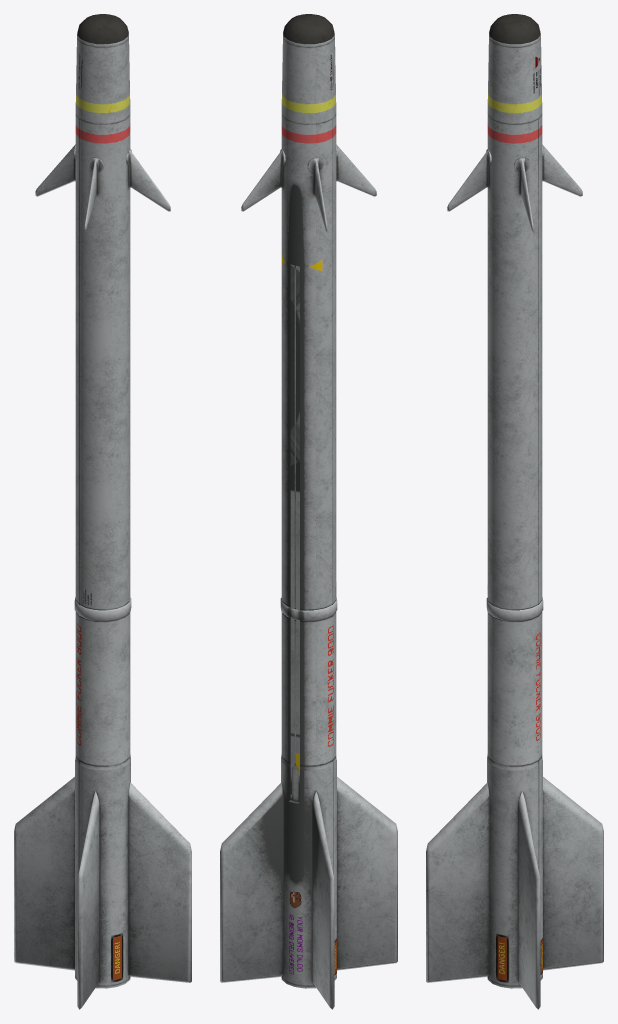
The model's file is AIM9.obj.
3 renders of one model, left to right at view 1: azimuth 30°, elevation 25°; view 2: azimuth 150°, elevation 25°; view 3: azimuth 330°, elevation 25°, orthographic.
Parts seen in each view (by area): view 1: AIM9; view 2: AIM9; view 3: AIM9.
Part boxes in pixels (x1,y1,x2,y2): AIM9: [14, 14, 191, 1009]; AIM9: [220, 14, 397, 1009]; AIM9: [426, 14, 603, 1009].
Bounding box in the file's own units: 0.3508 × 2.85 × 0.3508.
Materials: 1 (1 with a texture image).
